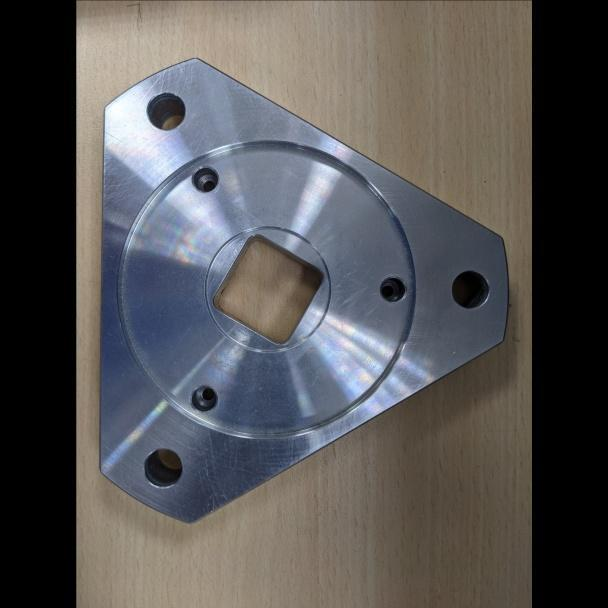hole: (443, 261, 499, 313), (135, 443, 185, 495), (140, 85, 192, 135), (179, 376, 223, 423), (370, 268, 418, 311), (184, 155, 225, 198)
